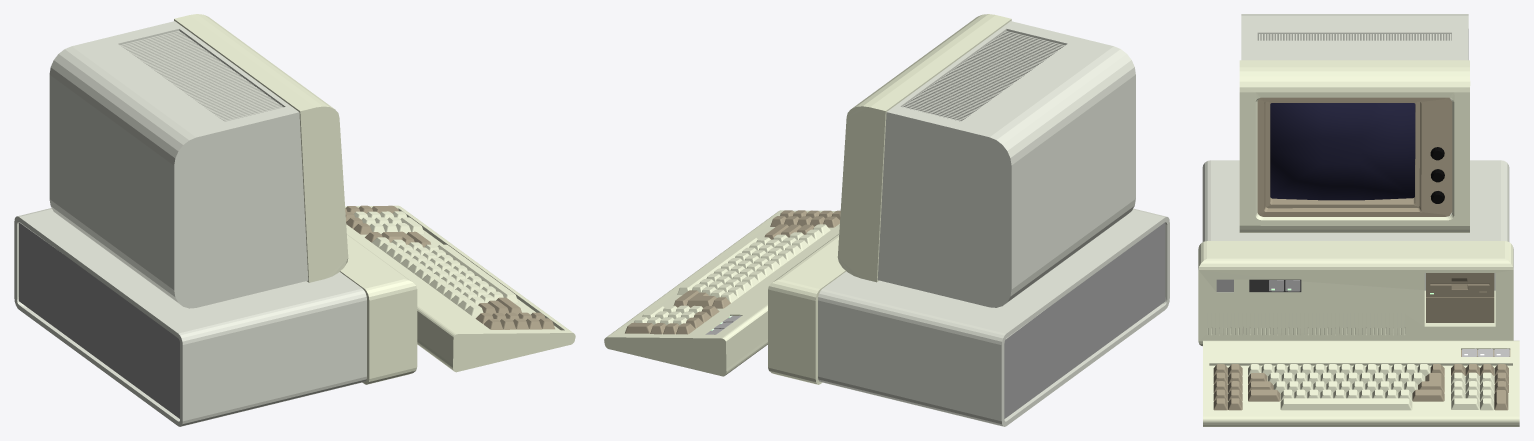
File: personal_computer.glb
3 views of the same model, side by side, from view 1: azimuth 30°, elevation 25°; view 2: azimuth 150°, elevation 25°; view 3: azimuth 270°, elevation 25° (orthographic). The views are drawn at different scales.
Parts seen in each view (by area): view 1: monitor_gray_0, cpu_white_0, monitor_white.001_0, cpu_metallic_0, monitor_vintage 2_0; view 2: monitor_gray_0, cpu_white_0, cpu_metallic_0, monitor_white.001_0, monitor_vintage 2_0; view 3: cpu_white_0, monitor_white.001_0, monitor_gray_0, monitor_screen_0, monitor_vintage 2_0, flopy_vintage 1_0, cpu_gray stiker_0, monitor_black_0, cpu_gray metallic_0.
Part boxes in pixels (left/top/right/bottom): monitor_gray_0: left=14, top=21, right=366, bottom=426; cpu_white_0: left=340, top=205, right=575, bottom=384; monitor_white.001_0: left=174, top=14, right=503, bottom=315; cpu_metallic_0: left=19, top=222, right=179, bottom=418; monitor_vintage 2_0: left=345, top=205, right=554, bottom=329; monitor_gray_0: left=818, top=21, right=1169, bottom=426; cpu_white_0: left=604, top=210, right=845, bottom=384; cpu_metallic_0: left=1004, top=222, right=1165, bottom=418; monitor_white.001_0: left=692, top=14, right=1011, bottom=302; monitor_vintage 2_0: left=625, top=210, right=840, bottom=334; cpu_white_0: left=1198, top=241, right=1519, bottom=426; monitor_white.001_0: left=1239, top=60, right=1470, bottom=401; monitor_gray_0: left=1202, top=14, right=1509, bottom=290; monitor_screen_0: left=1270, top=103, right=1415, bottom=200; monitor_vintage 2_0: left=1213, top=97, right=1510, bottom=410; flopy_vintage 1_0: left=1426, top=273, right=1494, bottom=322; cpu_gray stiker_0: left=1269, top=280, right=1509, bottom=356; monitor_black_0: left=1430, top=147, right=1444, bottom=203; cpu_gray metallic_0: left=1249, top=279, right=1301, bottom=292.
Bounding box in the file's own units: 0.8654 × 0.5888 × 0.672.
